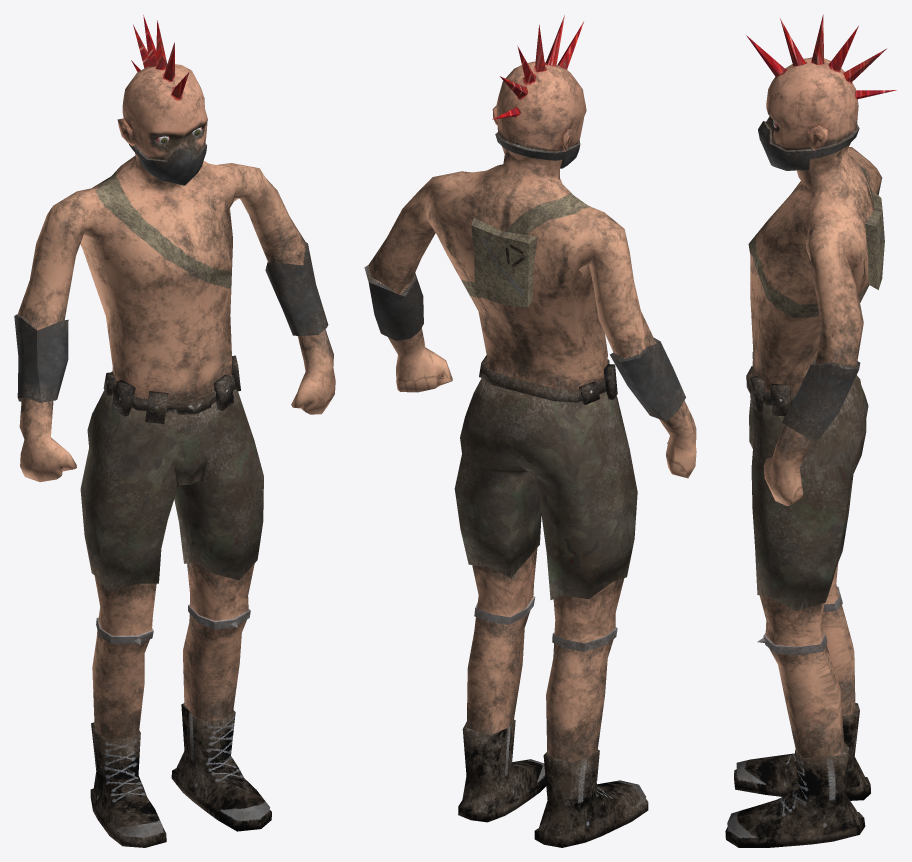
The model's file is Anim_cogerobjeto_npc2.0016.obj.
3 views of the same model, side by side, from view 1: azimuth 30°, elevation 25°; view 2: azimuth 150°, elevation 25°; view 3: azimuth 270°, elevation 25° (orthographic).
Parts seen in each view (by area): view 1: polySurface1; view 2: polySurface1; view 3: polySurface1.
Part boxes in pixels (left/top/right/bottom): polySurface1: left=14, top=15, right=335, bottom=847; polySurface1: left=364, top=15, right=696, bottom=847; polySurface1: left=725, top=14, right=896, bottom=847.
Size of the model in its own units: 4.15 by 10.18 by 1.99.
